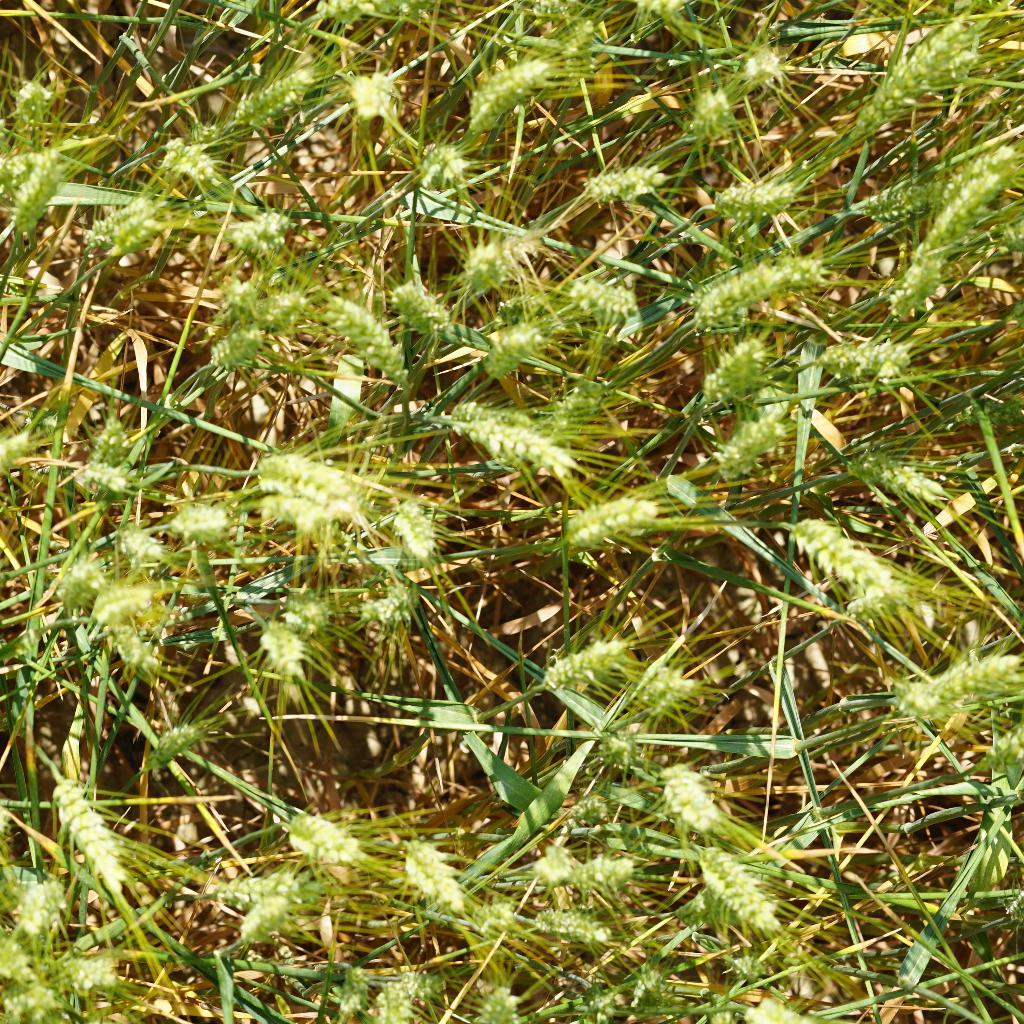0-0: (836, 12, 979, 148), (863, 130, 1022, 245), (425, 389, 582, 484), (672, 250, 833, 326), (531, 485, 697, 555), (681, 838, 803, 933), (47, 765, 130, 900), (889, 635, 1024, 718), (313, 288, 415, 389), (451, 43, 565, 130), (195, 852, 340, 916), (852, 432, 967, 512), (785, 511, 897, 590), (219, 52, 325, 134), (74, 182, 169, 264), (690, 322, 781, 402), (393, 834, 479, 915), (707, 406, 796, 481), (550, 260, 646, 329), (236, 608, 320, 686), (253, 443, 357, 503), (539, 628, 630, 695), (885, 224, 950, 317), (144, 123, 234, 190), (845, 161, 945, 221), (837, 564, 931, 626), (811, 339, 920, 392), (576, 144, 675, 202), (718, 165, 808, 228), (81, 400, 141, 494), (219, 262, 306, 326), (280, 803, 363, 870), (615, 653, 706, 714), (234, 879, 313, 949), (335, 570, 415, 632), (452, 236, 535, 295), (660, 761, 727, 833), (2, 865, 67, 938), (612, 964, 690, 1024), (537, 901, 616, 960), (92, 572, 176, 627), (281, 576, 347, 646), (257, 492, 354, 538), (380, 484, 441, 557), (727, 983, 834, 1024), (331, 56, 391, 129), (589, 713, 660, 774), (0, 170, 58, 243), (553, 363, 624, 422), (484, 311, 546, 378), (686, 82, 743, 153), (171, 493, 240, 550), (2, 975, 82, 1024), (144, 710, 212, 766), (413, 133, 471, 197), (568, 847, 636, 900), (730, 39, 795, 94), (303, 0, 425, 28), (47, 553, 103, 613), (64, 946, 129, 997), (559, 16, 602, 92), (0, 81, 57, 138), (232, 200, 292, 254), (215, 321, 273, 376), (471, 970, 527, 1024), (0, 139, 63, 186), (519, 838, 574, 889), (321, 956, 372, 1011), (561, 791, 620, 838), (361, 974, 415, 1024), (114, 626, 163, 680), (388, 276, 438, 328), (114, 529, 168, 574), (0, 430, 37, 485), (478, 893, 519, 937)
